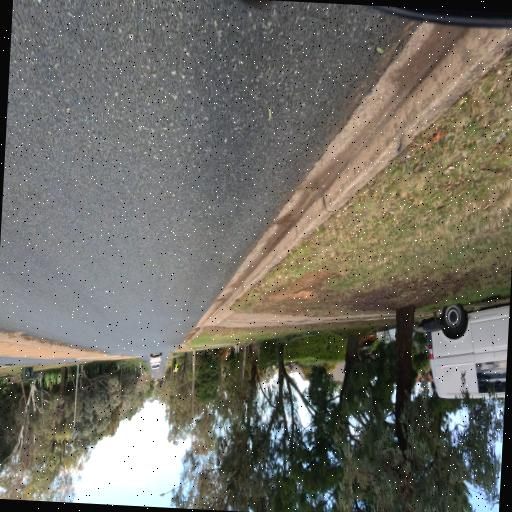kerb_cut: (195, 300, 234, 327)
